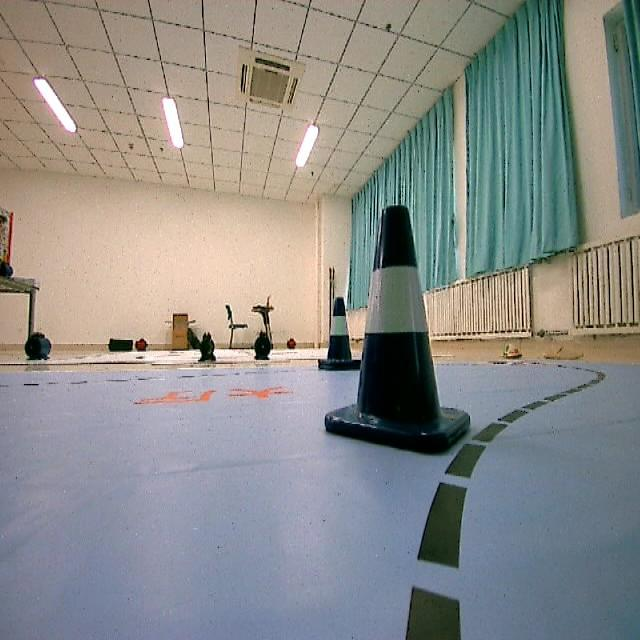obstacle: (326, 203, 475, 461), (318, 296, 362, 380)
